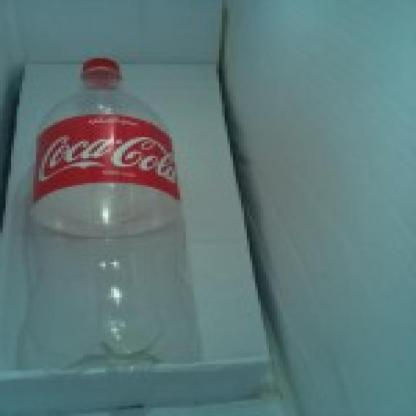Plastic Bottle: (19, 56, 201, 372)
